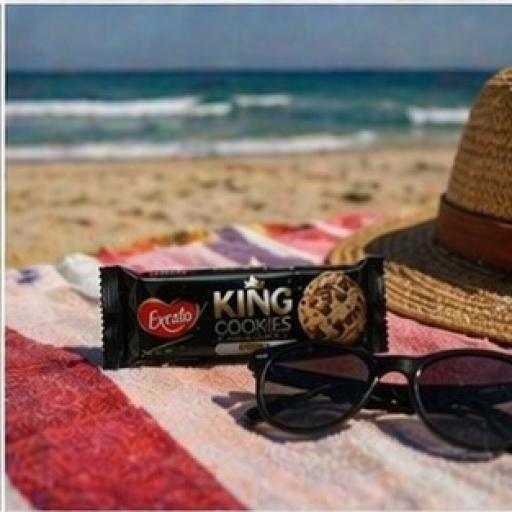king_cooking: (73, 240, 410, 393)
